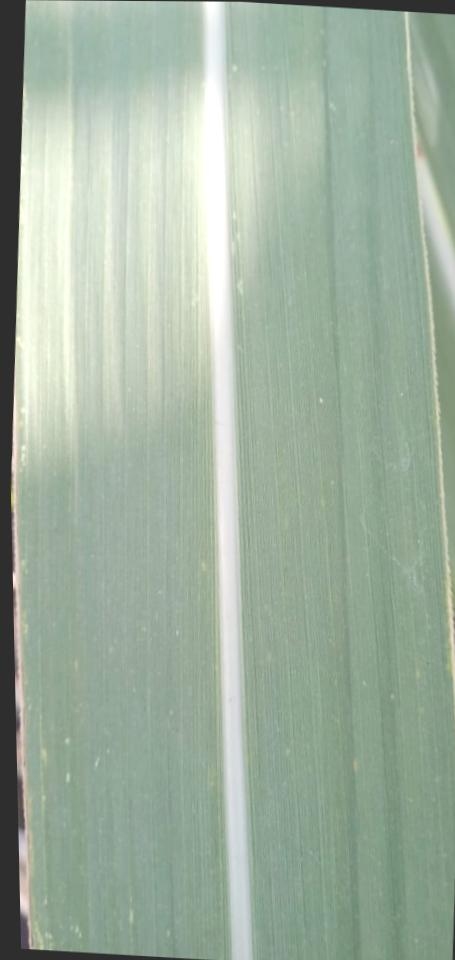Healthy: (26, 0, 455, 960)
